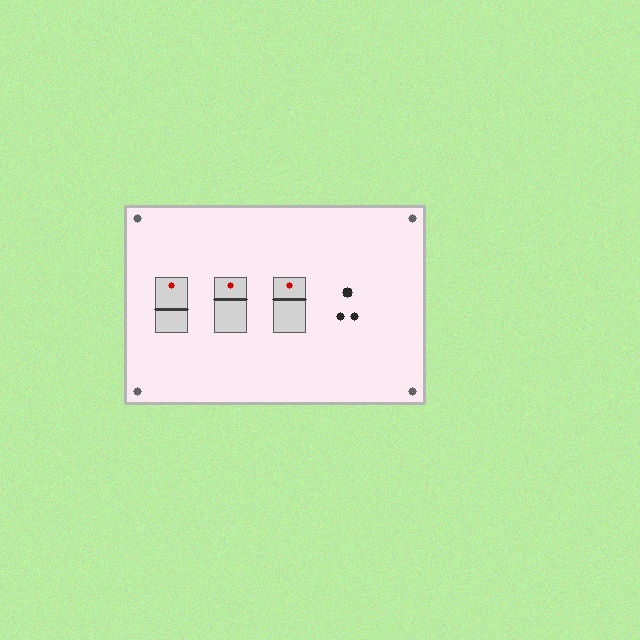switchboard: (125, 206, 424, 403)
